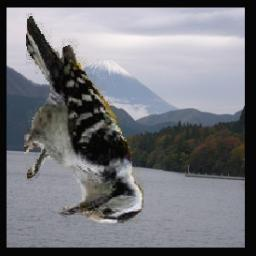Woodpecker: (24, 13, 143, 223)
